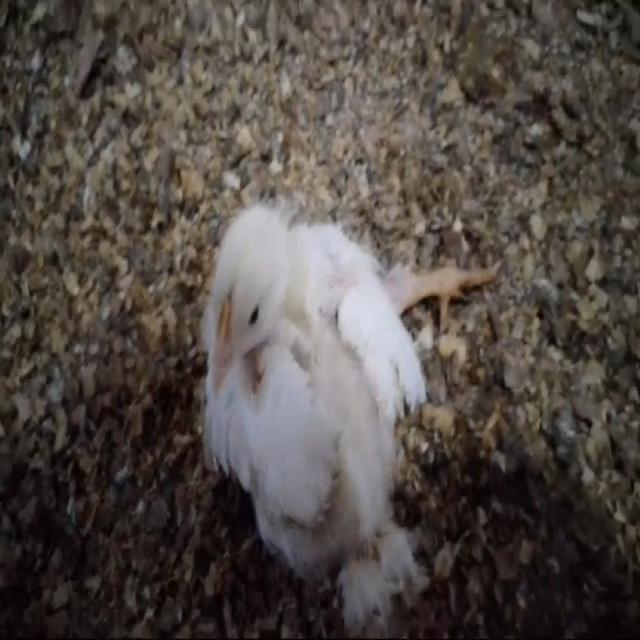abnormal chicken: (186, 149, 509, 580)
